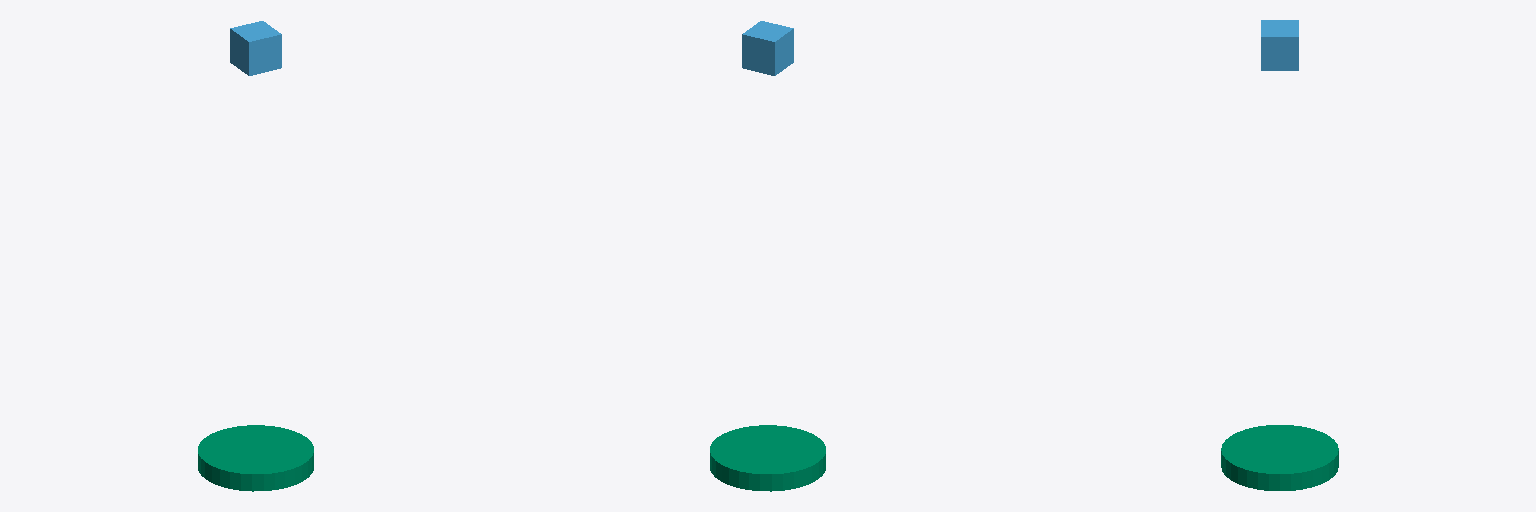
URDF robot description (wheelchai_with_lidar):
<?xml version="1.0" ?>
<robot name="wheelchai_with_lidar">
  <!-- Mainbody -->
  <link name="Mainbody">
    <inertial>
      <mass value="1"/>
      <inertia ixx="0.0" ixy="0.0" ixz="0.0" iyy="0.0" iyz="0.0" izz="0.0"/>
    </inertial>
    <visual>
      <geometry>
        <mesh filename="model://wheelchair/meshes/Wheelchair.stl" scale="1 1 1"/>
      </geometry>
    </visual>
    <collision>
      <geometry>
        <mesh filename="model://wheelchair/meshes/Wheelchair.stl" scale="1 1 1"/>
      </geometry>
      <surface>
        <friction>
          <ode>
            <mu value="0"/>
            <mu2 value="0"/>
          </ode>
        </friction>
      </surface>
    </collision>
  </link>

  <!-- Lidar link -->
  <link name="lidar_link">
    <inertial>
      <mass value="0.1"/>
    </inertial>
    <visual>
      <geometry>
        <box size="0.1 0.1 0.1"/>
      </geometry>
    </visual>
  </link>

  <joint name="lidar_joint" type="fixed">
    <parent link="Mainbody"/>
    <child link="lidar_link"/>
    <origin xyz="0 0 1.2" rpy="0 0 0"/>
  </joint>

  <!-- Left Main Wheel -->
  <link name="left_main_wheel">
    <inertial>
      <mass value="0.1"/>
    </inertial>
    <visual>
      <geometry>
        <cylinder radius="0.155" length="0.05"/>
      </geometry>
    </visual>
    <collision>
      <geometry>
        <cylinder radius="0.155" length="0.05"/>
      </geometry>
      <surface>
        <friction>
          <ode>
            <mu value="1000000.0"/>
            <mu2 value="1000000.0"/>
          </ode>
        </friction>
      </surface>
    </collision>
  </link>

  <joint name="left_wheel_main_hinge" type="revolute">
    <parent link="Mainbody"/>
    <child link="left_main_wheel"/>
    <axis xyz="0 0 1"/>
    <origin xyz="0 0 0" rpy="0 0 0"/>
  </joint>

  <!-- Right Main Wheel -->
  <link name="right_main_wheel">
    <inertial>
      <mass value="0.1"/>
    </inertial>
    <visual>
      <geometry>
        <cylinder radius="0.155" length="0.05"/>
      </geometry>
    </visual>
    <collision>
      <geometry>
        <cylinder radius="0.155" length="0.05"/>
      </geometry>
      <surface>
        <friction>
          <ode>
            <mu value="1000000.0"/>
            <mu2 value="1000000.0"/>
          </ode>
        </friction>
      </surface>
    </collision>
  </link>

  <joint name="right_wheel_main_hinge" type="revolute">
    <parent link="Mainbody"/>
    <child link="right_main_wheel"/>
    <axis xyz="0 0 -1"/>
    <origin xyz="0 0 0" rpy="0 0 0"/>
  </joint>

  <!-- Left Front Pin -->
  <link name="left_front_pin">
    <inertial>
      <mass value="0.05"/>
    </inertial>
    <visual>
      <geometry>
        <mesh filename="model://wheelchair/meshes/Hinge.stl" scale="0.01 0.01 0.01"/>
      </geometry>
    </visual>
    <collision>
      <geometry>
        <mesh filename="model://wheelchair/meshes/Hinge.stl" scale="0.01 0.01 0.01"/>
      </geometry>
    </collision>
  </link>

  <joint name="left_wheel_front_hinge_pin" type="revolute">
    <parent link="Mainbody"/>
    <child link="left_front_pin"/>
    <axis xyz="0 0 1"/>
    <origin xyz="0 0 0" rpy="0 0 0"/>
  </joint>

  <!-- Right Front Pin -->
  <link name="right_front_pin">
    <inertial>
      <mass value="0.05"/>
    </inertial>
    <visual>
      <geometry>
        <mesh filename="model://wheelchair/meshes/Hinge.stl" scale="0.01 0.01 0.01"/>
      </geometry>
    </visual>
    <collision>
      <geometry>
        <mesh filename="model://wheelchair/meshes/Hinge.stl" scale="0.01 0.01 0.01"/>
      </geometry>
    </collision>
  </link>

  <joint name="right_wheel_front_hinge_pin" type="revolute">
    <parent link="Mainbody"/>
    <child link="right_front_pin"/>
    <axis xyz="0 0 1"/>
    <origin xyz="0 0 0" rpy="0 0 0"/>
  </joint>

  <!-- Additional links and joints can be added in similar fashion -->
</robot>

--- Facts derived from the render (not from the file) ---
Views: 3 orthographic renders of the robot side by side, from view 1: azimuth 30°, elevation 25°; view 2: azimuth 150°, elevation 25°; view 3: azimuth 270°, elevation 25°.
Model wheelchai_with_lidar with 6 links and 5 joints (4 revolute, 1 fixed), rooted at Mainbody, posed every joint at zero.
Visible links, largest first — view 1: left_main_wheel, lidar_link; view 2: left_main_wheel, lidar_link; view 3: left_main_wheel, lidar_link.
Boxes of the visible links, box(x1,y1,x2,y2) form: left_main_wheel: box(198, 425, 313, 491); lidar_link: box(230, 21, 281, 75); left_main_wheel: box(710, 425, 825, 491); lidar_link: box(742, 21, 793, 75); left_main_wheel: box(1221, 425, 1338, 490); lidar_link: box(1261, 20, 1298, 70).
Size in the robot's own frame: 0.31 by 0.31 by 1.27 metres.
0 mesh visuals loaded from 2 distinct referenced files (none loaded); not drawn: 3 (reference not matched to a file when rendering).
